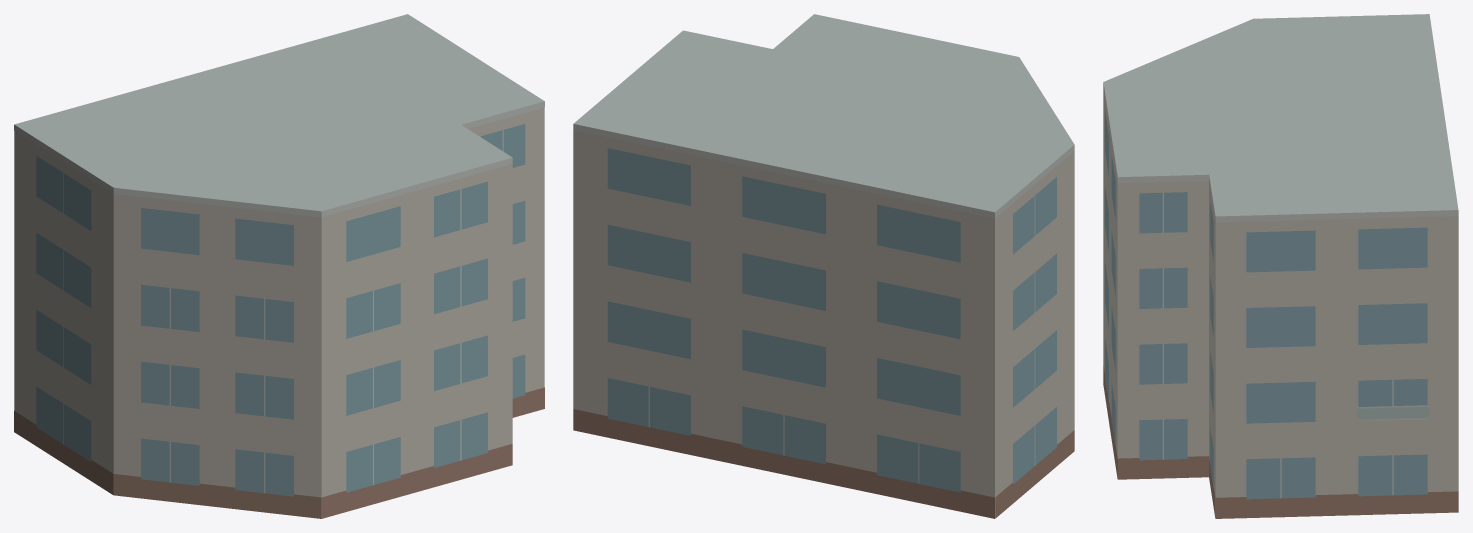
Rendered from residential-d3908293-338d-40ee-9f99-7ffe0e4b09c1.glb.
3 renders of one model, left to right at view 1: azimuth 30°, elevation 25°; view 2: azimuth 150°, elevation 25°; view 3: azimuth 270°, elevation 25°, orthographic.
Visible parts, largest first — view 1: residential-d3908293-338d-40ee-9f99-7ffe0e4b09c1.tmp; view 2: residential-d3908293-338d-40ee-9f99-7ffe0e4b09c1.tmp; view 3: residential-d3908293-338d-40ee-9f99-7ffe0e4b09c1.tmp.
Part boxes in pixels (x1,y1,x2,y2): residential-d3908293-338d-40ee-9f99-7ffe0e4b09c1.tmp: (14,14,544,518); residential-d3908293-338d-40ee-9f99-7ffe0e4b09c1.tmp: (573,14,1074,518); residential-d3908293-338d-40ee-9f99-7ffe0e4b09c1.tmp: (1103,14,1458,518).
Bounding box in the file's own units: 17.52 × 12.2 × 12.99.
